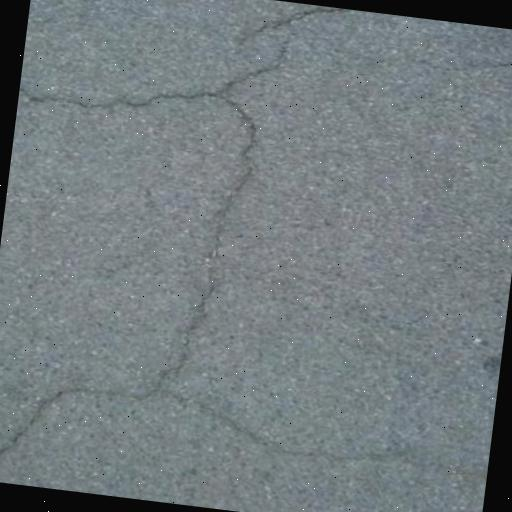spalling: (0, 369, 478, 495), (130, 96, 275, 391), (16, 2, 335, 125)
